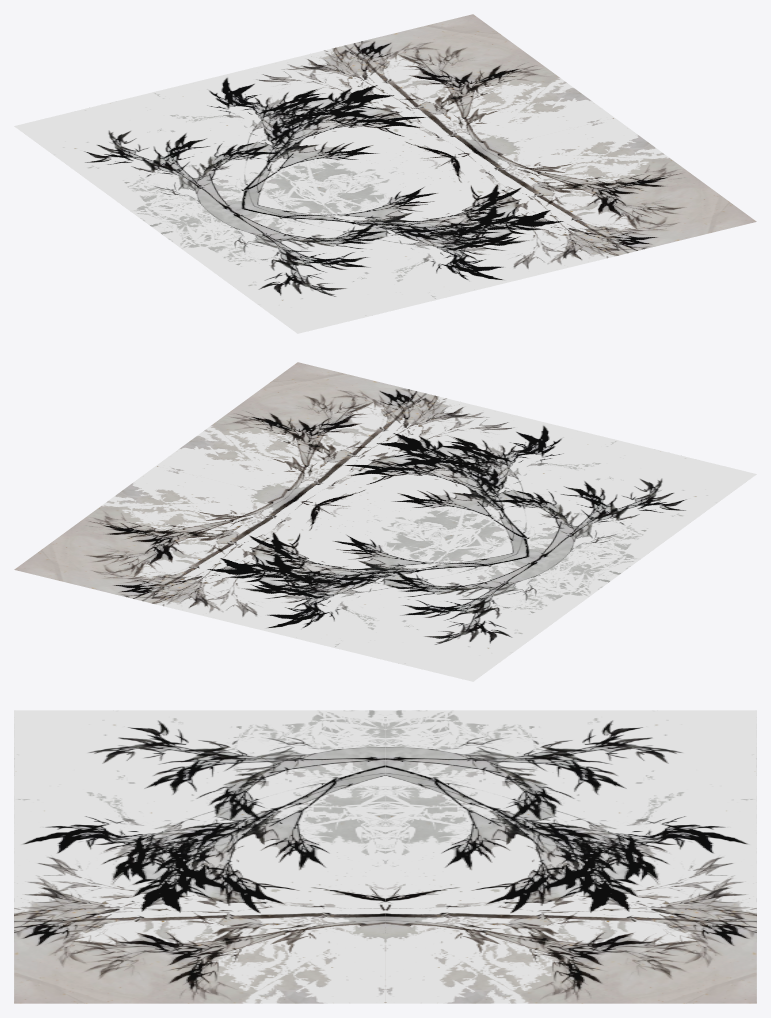
Rendered from PPX_MOUNT2.fbx.
3 views of the same model, one above another, from view 1: azimuth 30°, elevation 25°; view 2: azimuth 150°, elevation 25°; view 3: azimuth 270°, elevation 25° (orthographic). The views are drawn at different scales.
Parts seen in each view (by area): view 1: 10571d2ecffb8c6d86239904e73bafb.png, 10571d2ecffb8c6d86239904e73bafb.png_2; view 2: 10571d2ecffb8c6d86239904e73bafb.png, 10571d2ecffb8c6d86239904e73bafb.png_2; view 3: 10571d2ecffb8c6d86239904e73bafb.png, 10571d2ecffb8c6d86239904e73bafb.png_2.
Part boxes in pixels (x1=…): 10571d2ecffb8c6d86239904e73bafb.png: x1=156, y1=118, x2=756, y2=333; 10571d2ecffb8c6d86239904e73bafb.png_2: x1=14, y1=14, x2=614, y2=229; 10571d2ecffb8c6d86239904e73bafb.png: x1=156, y1=362, x2=756, y2=577; 10571d2ecffb8c6d86239904e73bafb.png_2: x1=14, y1=466, x2=614, y2=681; 10571d2ecffb8c6d86239904e73bafb.png: x1=14, y1=710, x2=385, y2=1003; 10571d2ecffb8c6d86239904e73bafb.png_2: x1=385, y1=710, x2=756, y2=1003.
Size of the model in its own units: 620 by 663 by 0.
1 material, 1 textured.
